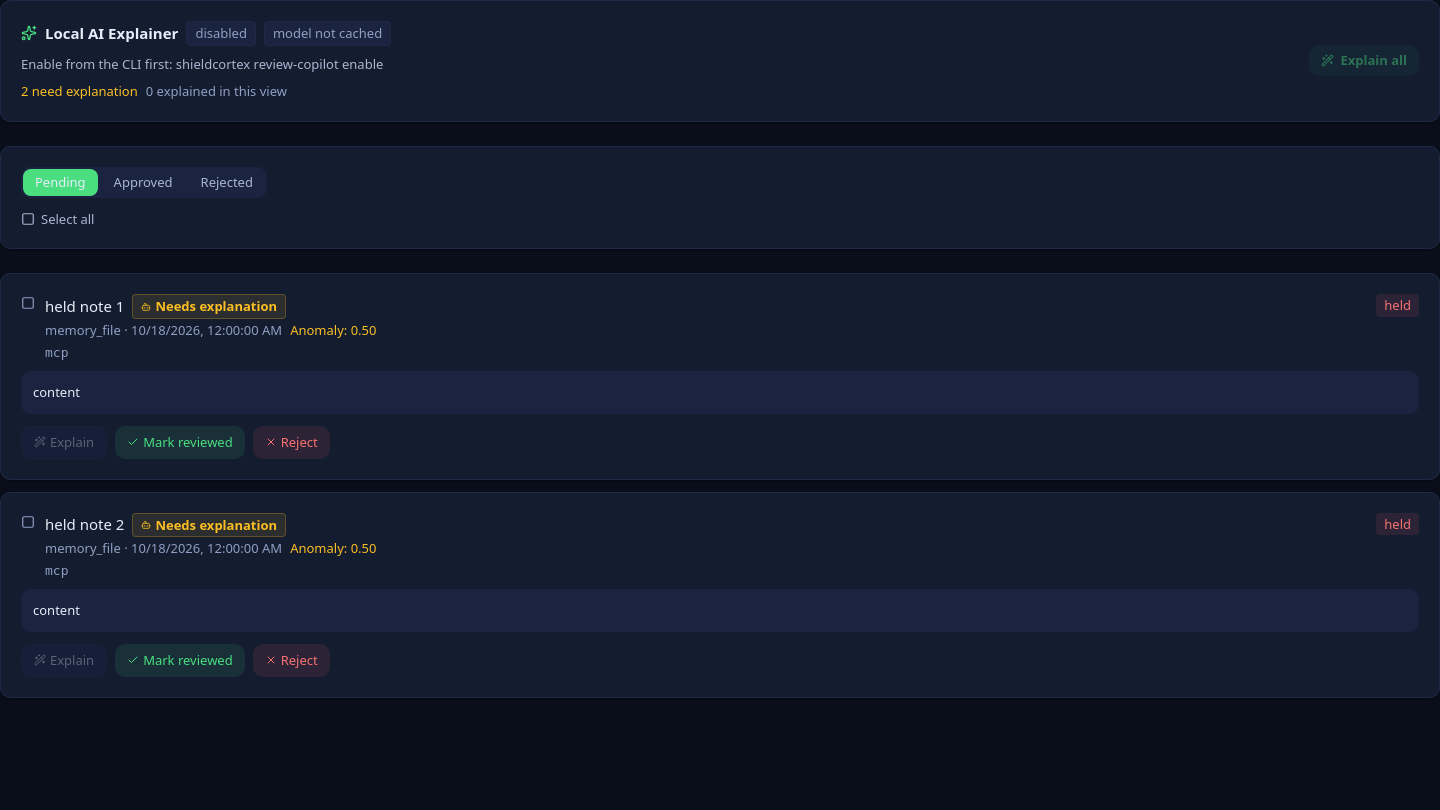
Scenario: QuarantineView approval notices (#824, #828) › the bulk approve dialog for only memory-file findings describes only what will happen
The image size is (1440, 810).
What coordinates should you click on to do the following:
click the button "Select all"
I would click on:
 (58, 219)
Its box is 21,210 -> 94,228.
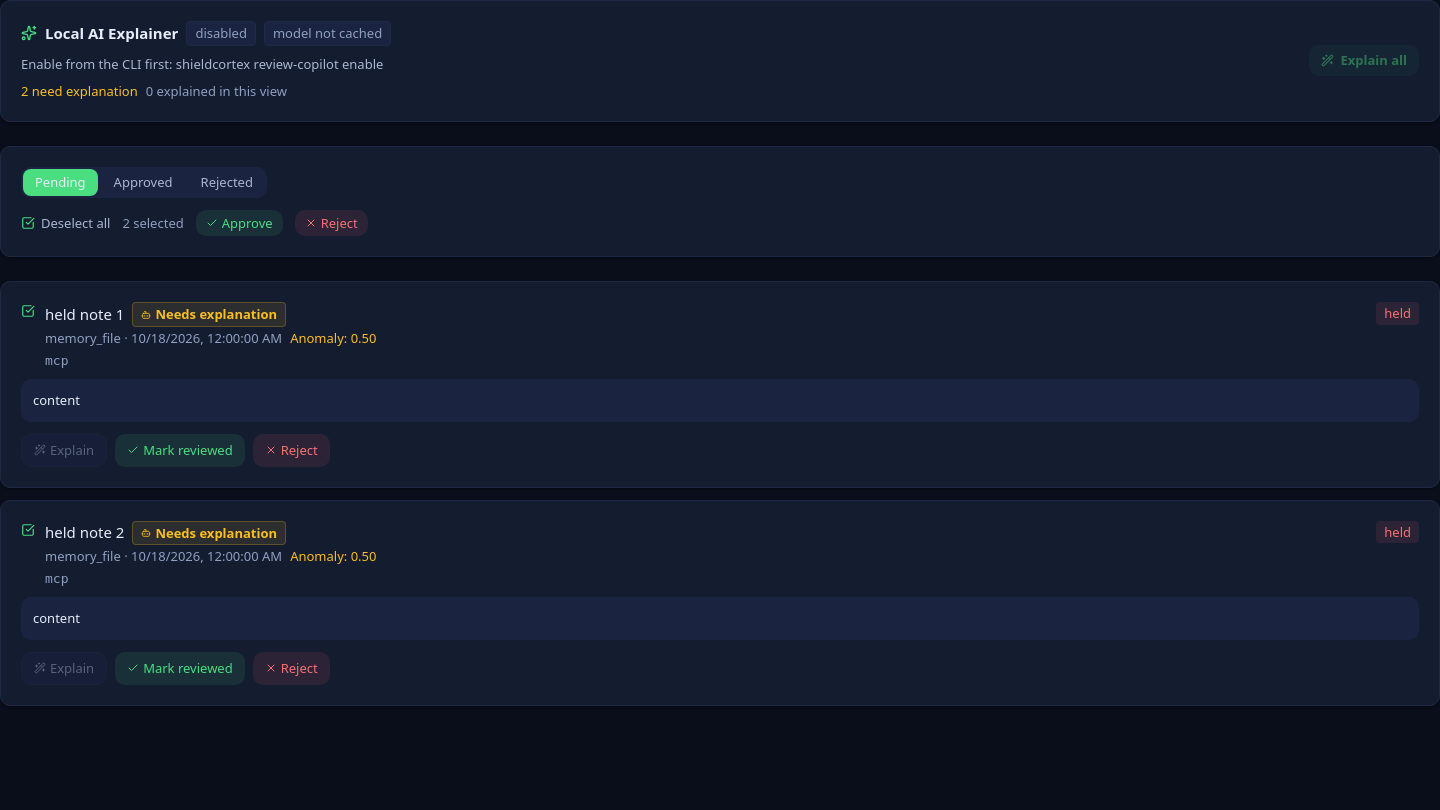
What coordinates should you click on to do the following:
click the button "Approve"
I would click on:
 (239, 223)
Its box is 196,210 -> 283,236.
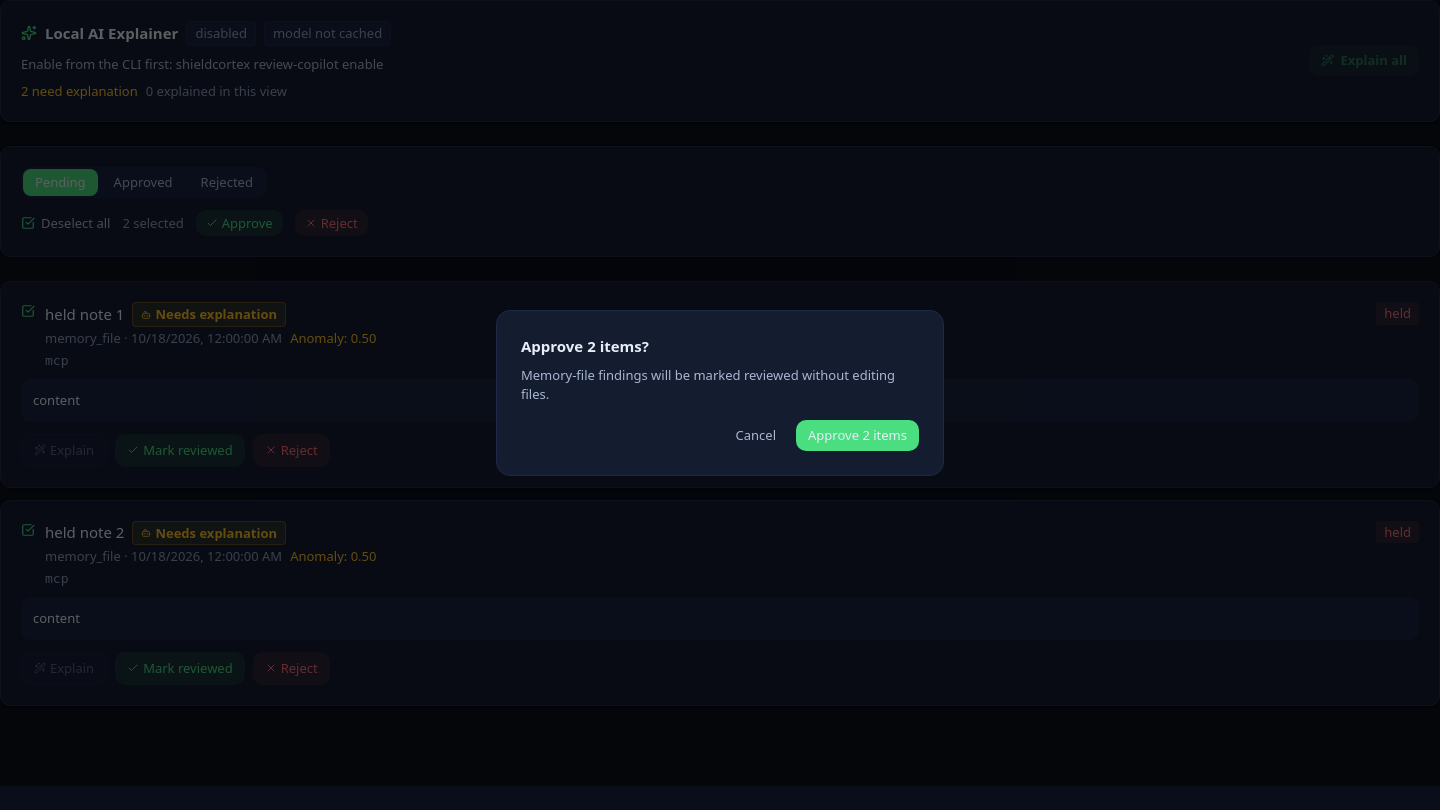
Result: the text "Memory-file findings will be marked reviewed without editing files." is shown at 521,366 -> 919,404
